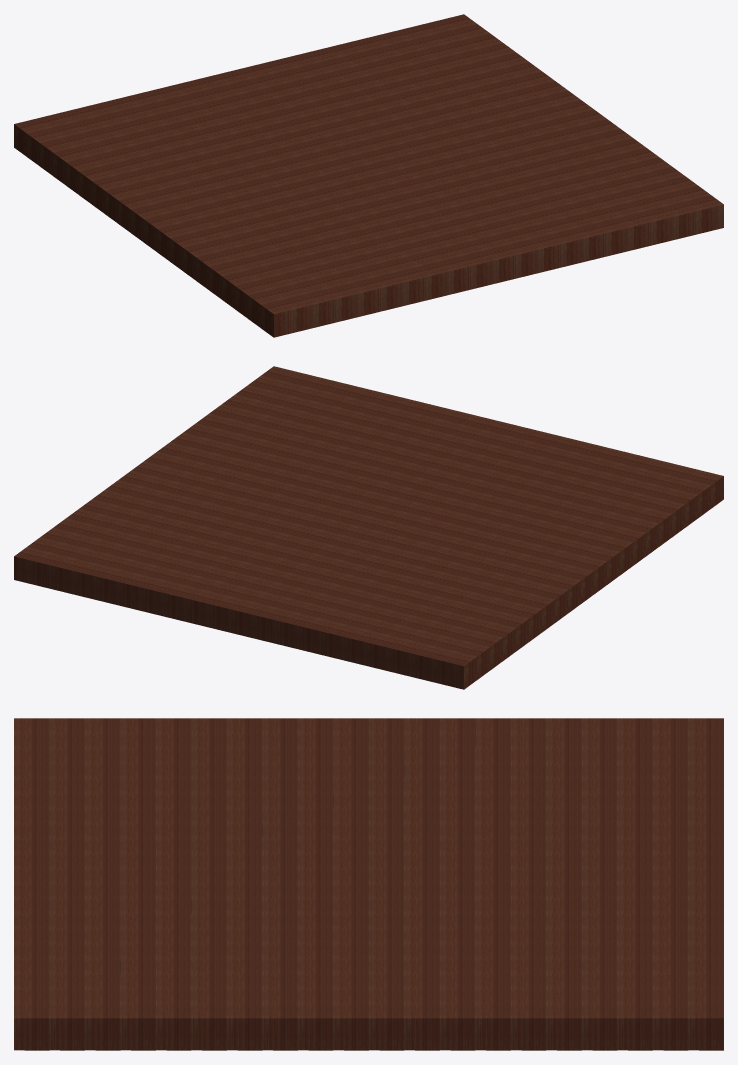
Rendered from ceiling.fbx.
3 views of the same model, one above another, from view 1: azimuth 30°, elevation 25°; view 2: azimuth 150°, elevation 25°; view 3: azimuth 270°, elevation 25° (orthographic). The views are drawn at different scales.
Visible parts, largest first — view 1: Cube.002; view 2: Cube.002; view 3: Cube.002.
Part boxes in pixels (bbox=[...]): Cube.002: bbox=[14, 14, 723, 337]; Cube.002: bbox=[14, 366, 723, 689]; Cube.002: bbox=[14, 718, 723, 1050].
Size of the model in its own units: 4000 by 202 by 4000.
Materials: 1 (1 with a texture image).
